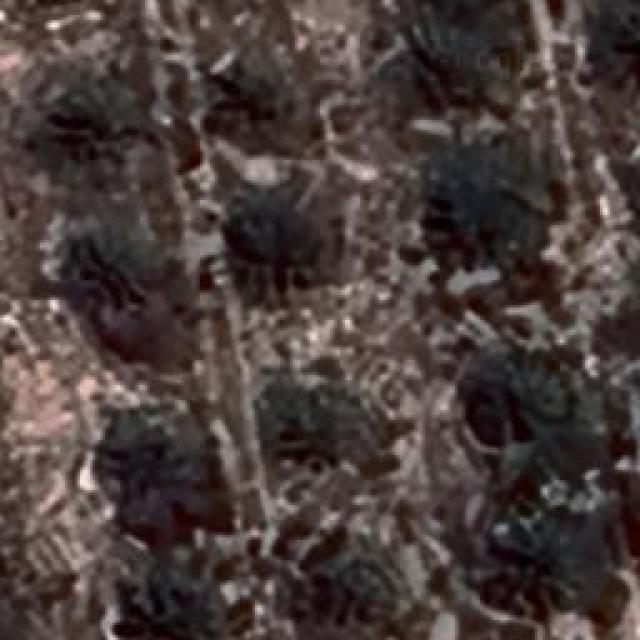PalmTree: (41, 47, 619, 118), (475, 501, 603, 611), (92, 400, 198, 522), (424, 142, 542, 245), (228, 180, 332, 295), (280, 375, 382, 480), (460, 352, 570, 438), (205, 45, 310, 130), (396, 18, 496, 106), (300, 542, 392, 626), (70, 228, 152, 322), (125, 570, 207, 640), (617, 0, 640, 88)
